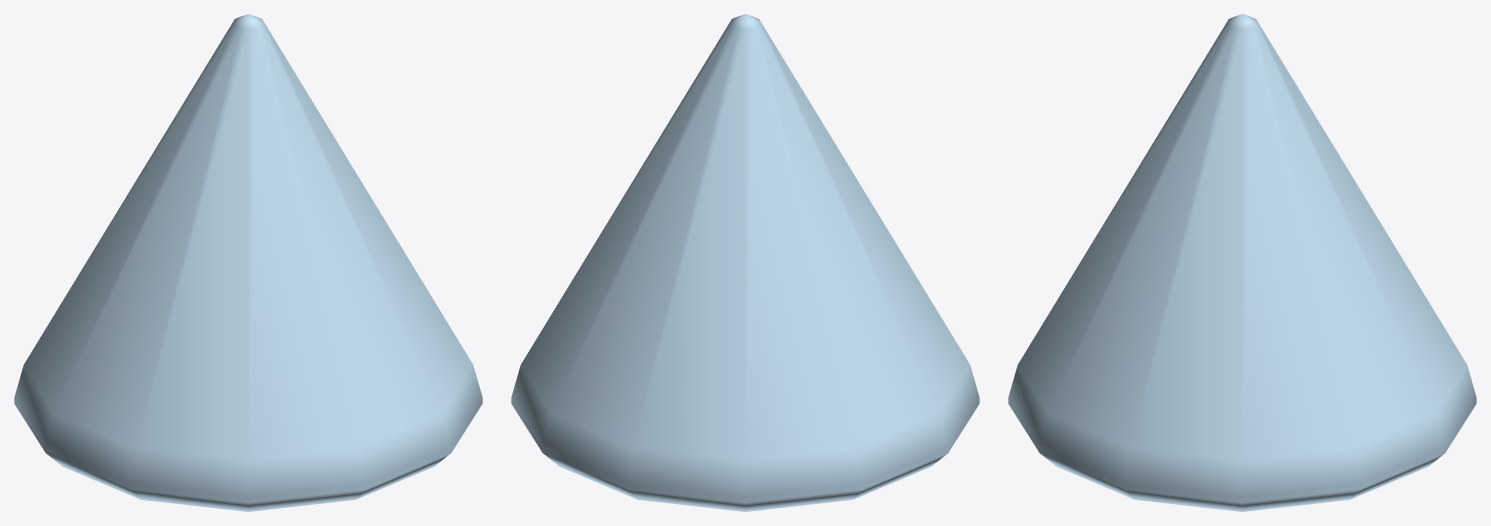
The picture shows the model from 3 angles, left to right: view 1: azimuth 30°, elevation 25°; view 2: azimuth 150°, elevation 25°; view 3: azimuth 270°, elevation 25°; orthographic projection.
Visible parts, largest first — view 1: R4B_Cone; view 2: R4B_Cone; view 3: R4B_Cone.
Boxes of the visible parts, x1,y1,x2,y2 form: R4B_Cone: [14, 14, 482, 511]; R4B_Cone: [511, 14, 979, 511]; R4B_Cone: [1008, 14, 1476, 511].
Bounding box in the file's own units: 0.52 × 0.4987 × 0.52.
